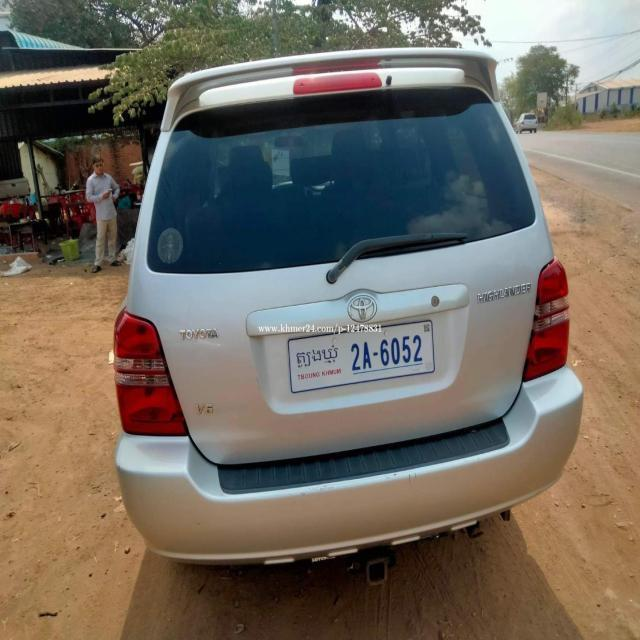Tboung_Khmum: (293, 340, 338, 370)
